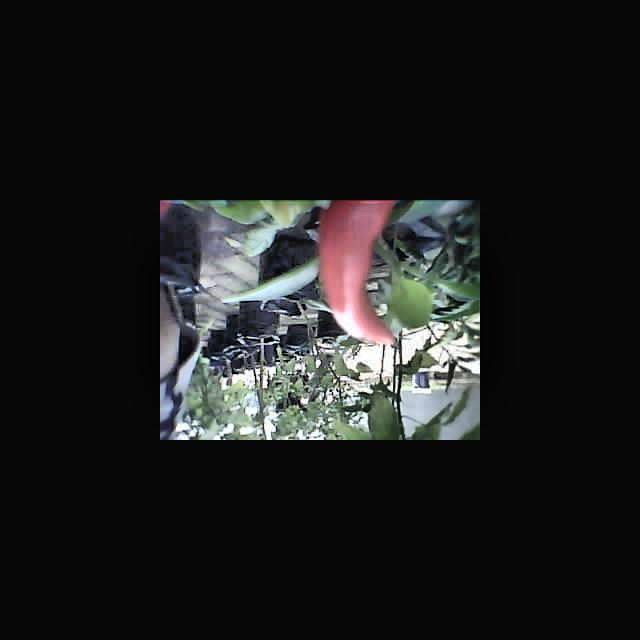Cabai: (318, 200, 403, 353)
